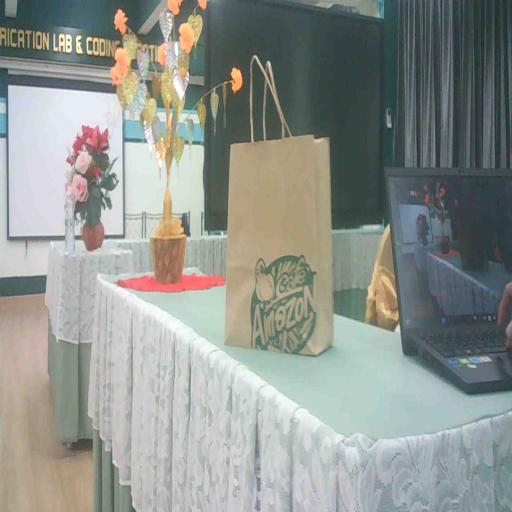bag: (216, 130, 348, 374)
